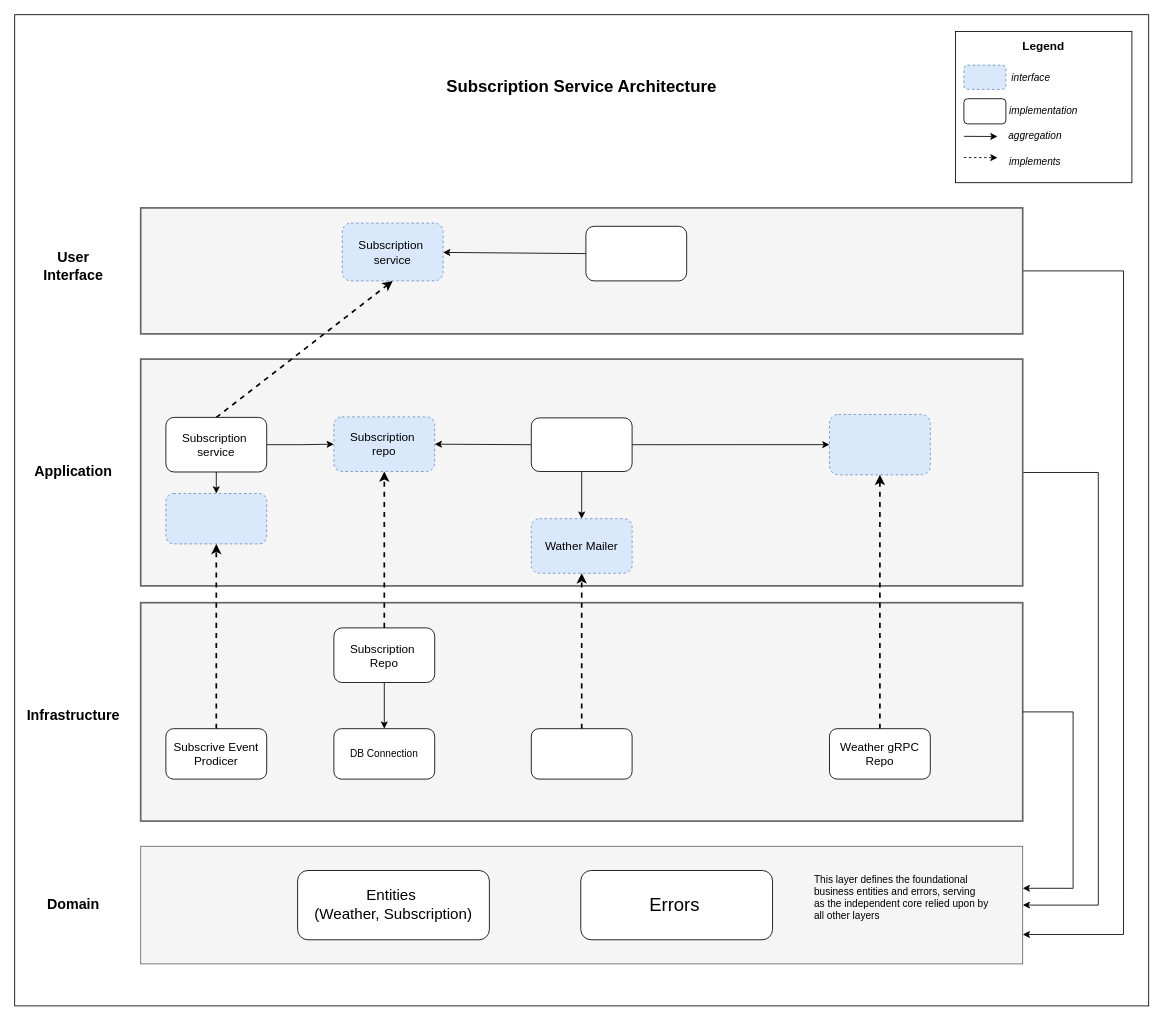
Image size: 1163x1021. Some labels were removed from this diagram. Here are the shapes that lost their labels. From the top down, the centre of each, then its label:
At [636,253]: "Subscription gRPC handlers".
At [581,444]: "Weather Notification Service".
At [879,444]: "Weather repo".
At [216,518]: "Subscription mailer".
At [581,753]: "Weather Event Producer".
